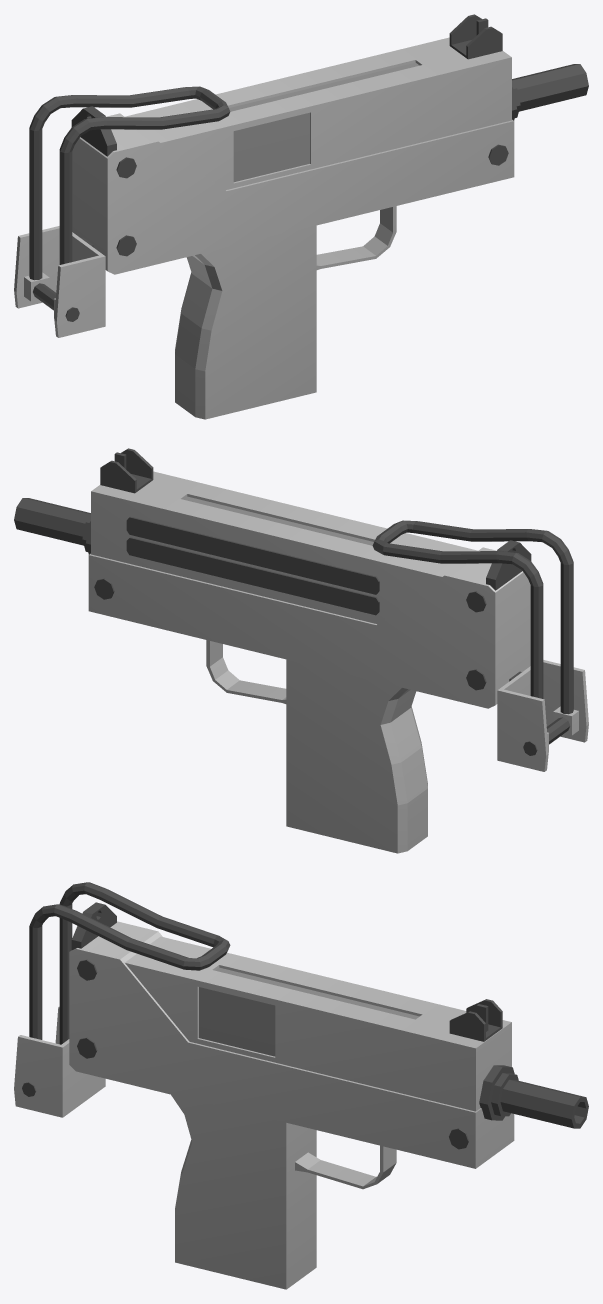
Rendered from SMG1_02.fbx.
The picture shows the model from 3 angles, top to bottom: view 1: azimuth 30°, elevation 25°; view 2: azimuth 150°, elevation 25°; view 3: azimuth 330°, elevation 25°; orthographic projection.
Visible parts, largest first — view 1: SMG1_02; view 2: SMG1_02; view 3: SMG1_02.
Part boxes in pixels (x1,y1,x2,y2): SMG1_02: (14, 14, 588, 419); SMG1_02: (14, 448, 588, 853); SMG1_02: (14, 882, 588, 1289).
Size of the model in its own units: 0.2805 by 0.162 by 0.0396.
